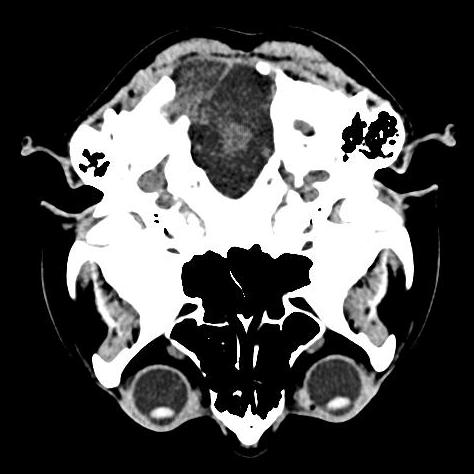Normal_Brain: (31, 18, 474, 474)
